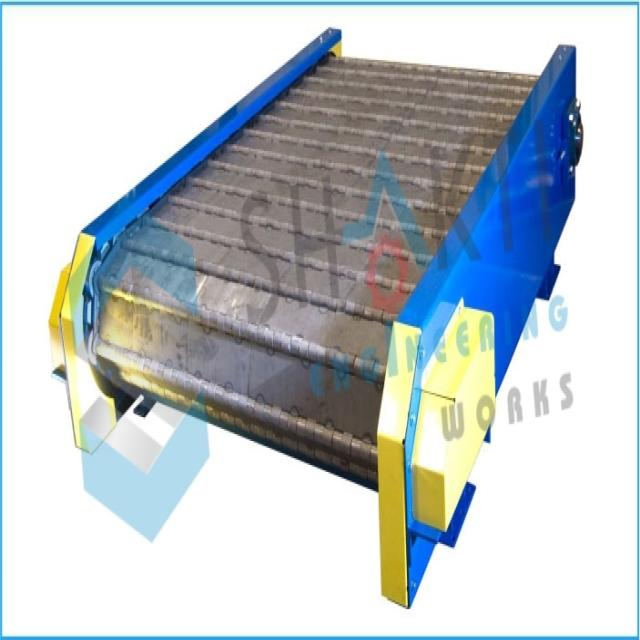conveyor: (57, 26, 597, 590)
